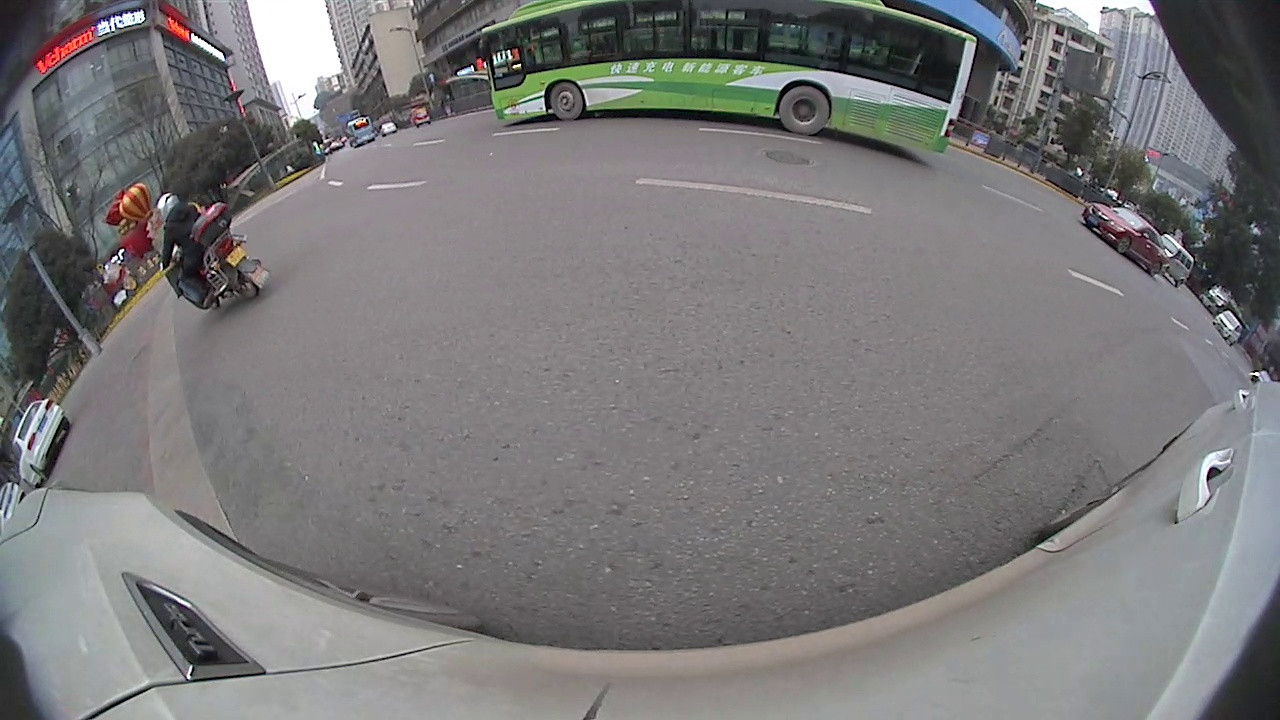bus: (479, 3, 980, 155)
car: (1084, 208, 1162, 272), (15, 401, 73, 486), (1149, 233, 1196, 289)
front: (547, 81, 583, 121), (1114, 233, 1137, 254)
rear: (776, 85, 831, 136), (228, 271, 261, 299), (1144, 258, 1166, 279)
rider: (158, 193, 261, 310)
